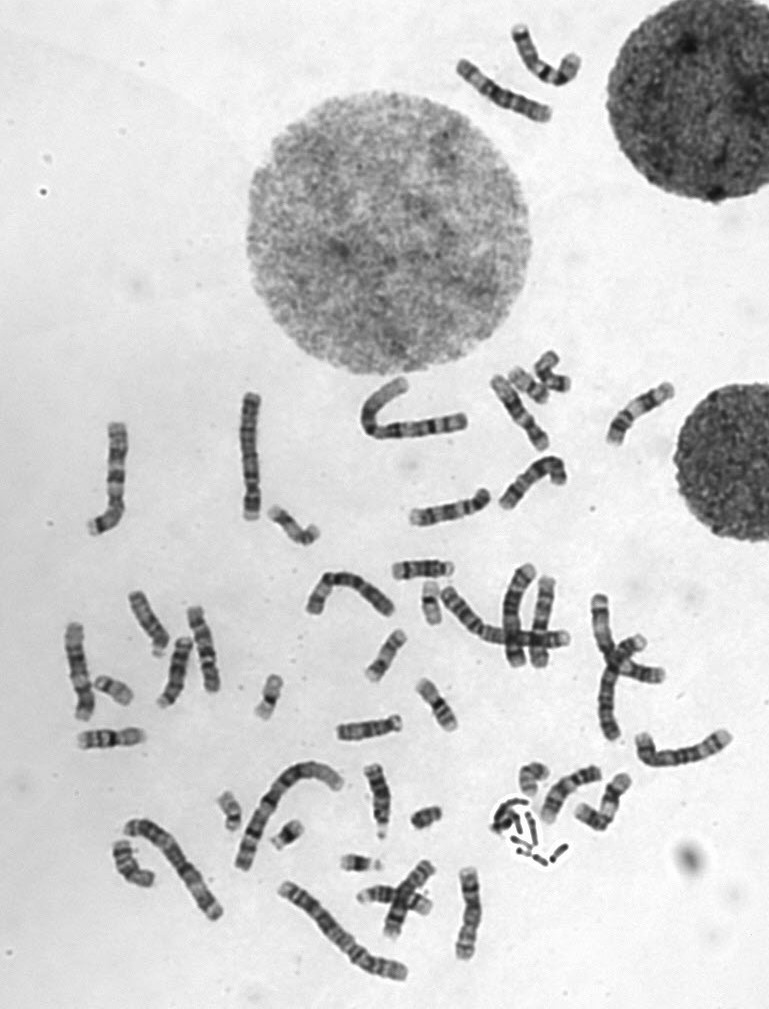chromosomes: (224, 752, 352, 884), (270, 876, 416, 987), (120, 809, 229, 931), (340, 367, 476, 449), (584, 586, 675, 690), (446, 51, 567, 128), (436, 588, 576, 650), (78, 411, 139, 545), (589, 630, 652, 745), (293, 563, 402, 629), (47, 606, 105, 728), (597, 373, 686, 451), (509, 14, 588, 94), (229, 380, 272, 526), (443, 852, 496, 968), (529, 761, 612, 835), (627, 726, 747, 777), (488, 368, 557, 455), (493, 449, 575, 520), (145, 625, 204, 718), (491, 556, 538, 672), (524, 566, 571, 680), (383, 851, 437, 948), (398, 483, 495, 534), (574, 769, 641, 840), (183, 595, 229, 698), (118, 583, 174, 667), (102, 832, 166, 903), (345, 886, 447, 923), (361, 756, 402, 847), (263, 495, 326, 551), (364, 620, 414, 690), (204, 779, 259, 842), (68, 721, 163, 757), (411, 675, 466, 735), (385, 549, 467, 587), (328, 706, 411, 742), (531, 343, 582, 400), (247, 669, 291, 727), (85, 669, 143, 711), (268, 809, 316, 857), (506, 360, 556, 402), (414, 579, 450, 636), (512, 752, 551, 802), (338, 846, 387, 880), (413, 795, 449, 833)
